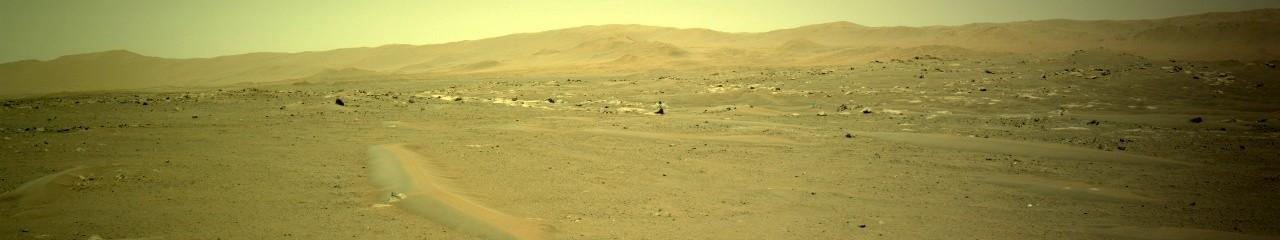bedrock: (4, 51, 1277, 141)
sand: (362, 139, 577, 238), (850, 130, 1107, 146), (1173, 153, 1214, 176), (5, 183, 17, 215)
soil: (3, 101, 1279, 239), (938, 126, 1172, 145), (846, 128, 863, 129)
